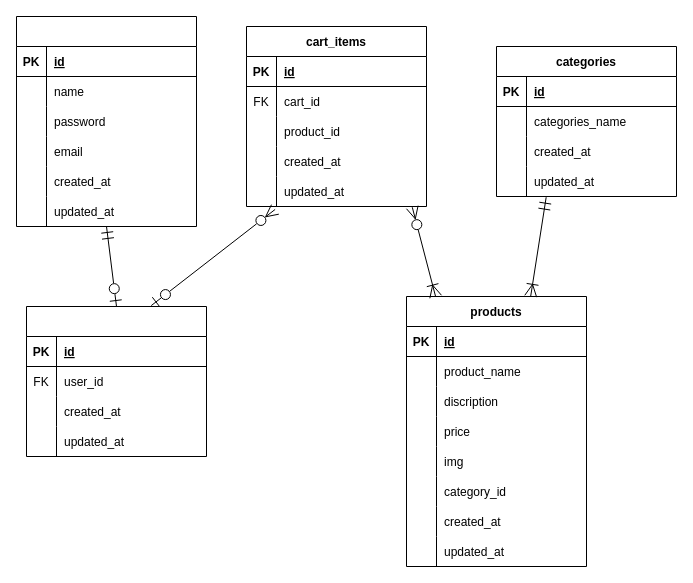
Image size: 693x583. Some labels were removed from this diagram. Each missing label, with the box of its shape:
carts: (26, 306, 206, 456)
users: (16, 16, 196, 226)
